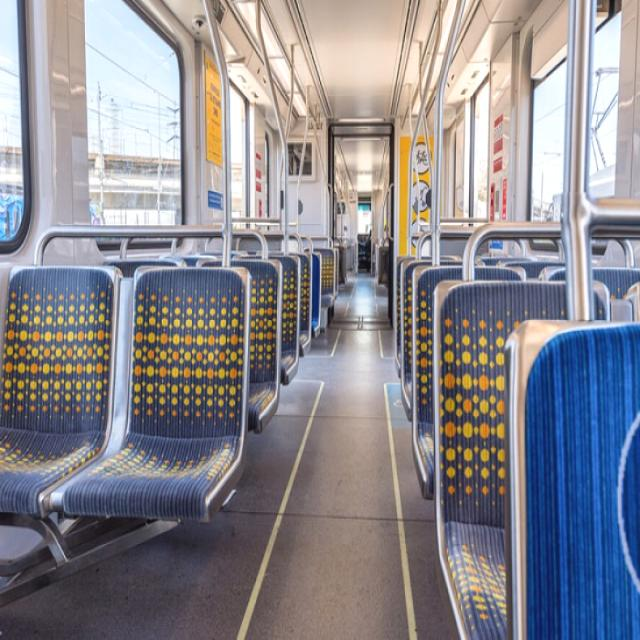asiento-libre: (44, 264, 248, 526), (63, 266, 251, 522), (434, 281, 566, 639), (434, 281, 564, 639), (505, 317, 640, 639), (0, 264, 117, 522), (1, 266, 119, 514), (410, 266, 482, 500), (412, 265, 462, 498), (233, 257, 281, 432), (242, 259, 282, 435), (398, 261, 443, 417), (269, 256, 299, 384), (400, 260, 423, 419), (277, 254, 302, 386), (592, 264, 640, 321), (288, 253, 312, 355), (296, 252, 313, 356), (313, 247, 335, 308), (319, 249, 337, 318), (308, 252, 322, 338), (312, 253, 321, 335)
